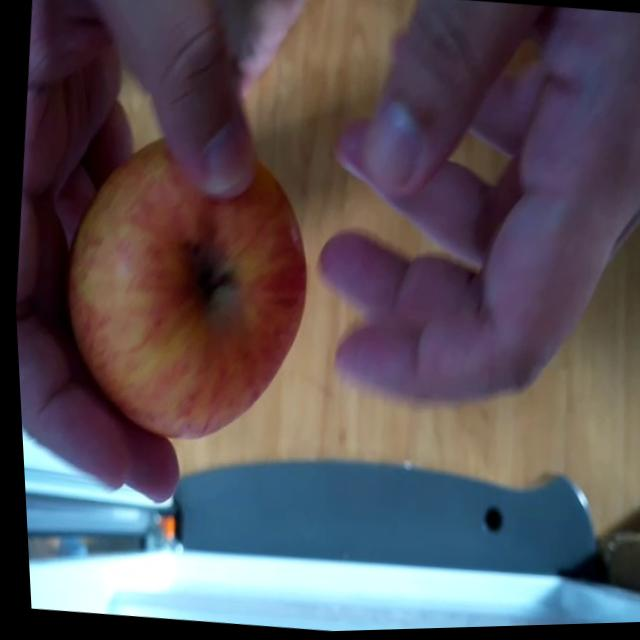apple: (37, 133, 324, 463)
